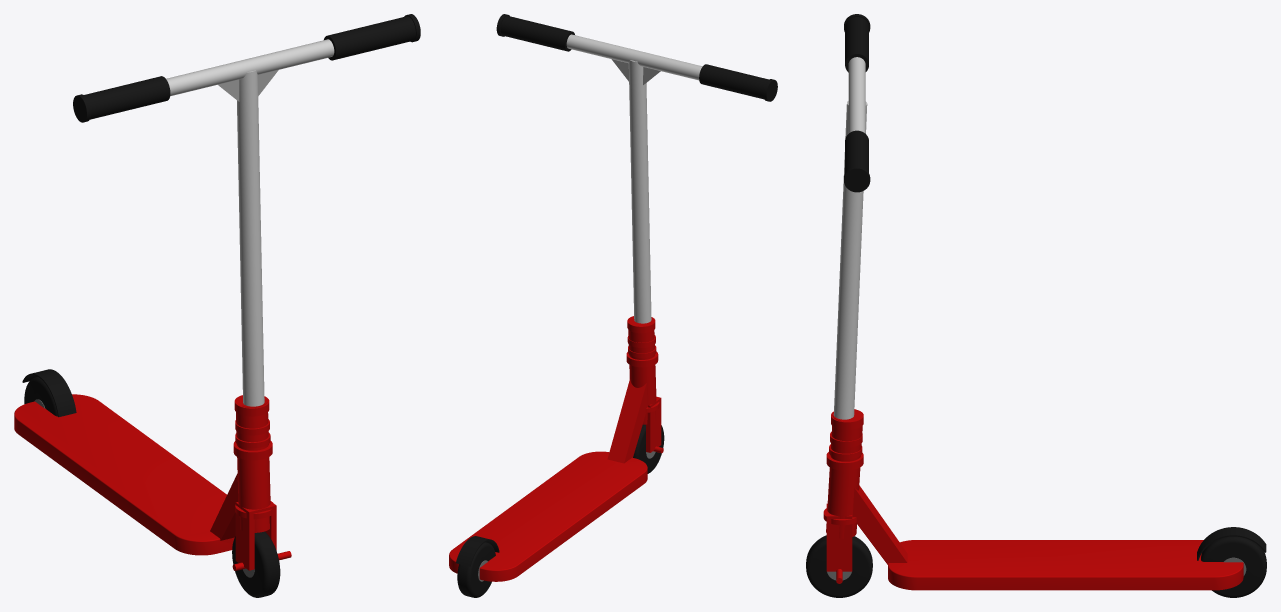
The picture shows the model from 3 angles, left to right: view 1: azimuth 30°, elevation 25°; view 2: azimuth 150°, elevation 25°; view 3: azimuth 270°, elevation 25°; orthographic projection. The views are drawn at different scales.
Parts seen in each view (by area): view 1: scooter; view 2: scooter; view 3: scooter.
Boxes of the visible parts, bbox=[...] form: scooter: bbox=[14, 14, 420, 597]; scooter: bbox=[449, 14, 777, 597]; scooter: bbox=[806, 14, 1266, 597].
Bounding box in the file's own units: 0.7886 × 1.2 × 0.994.
